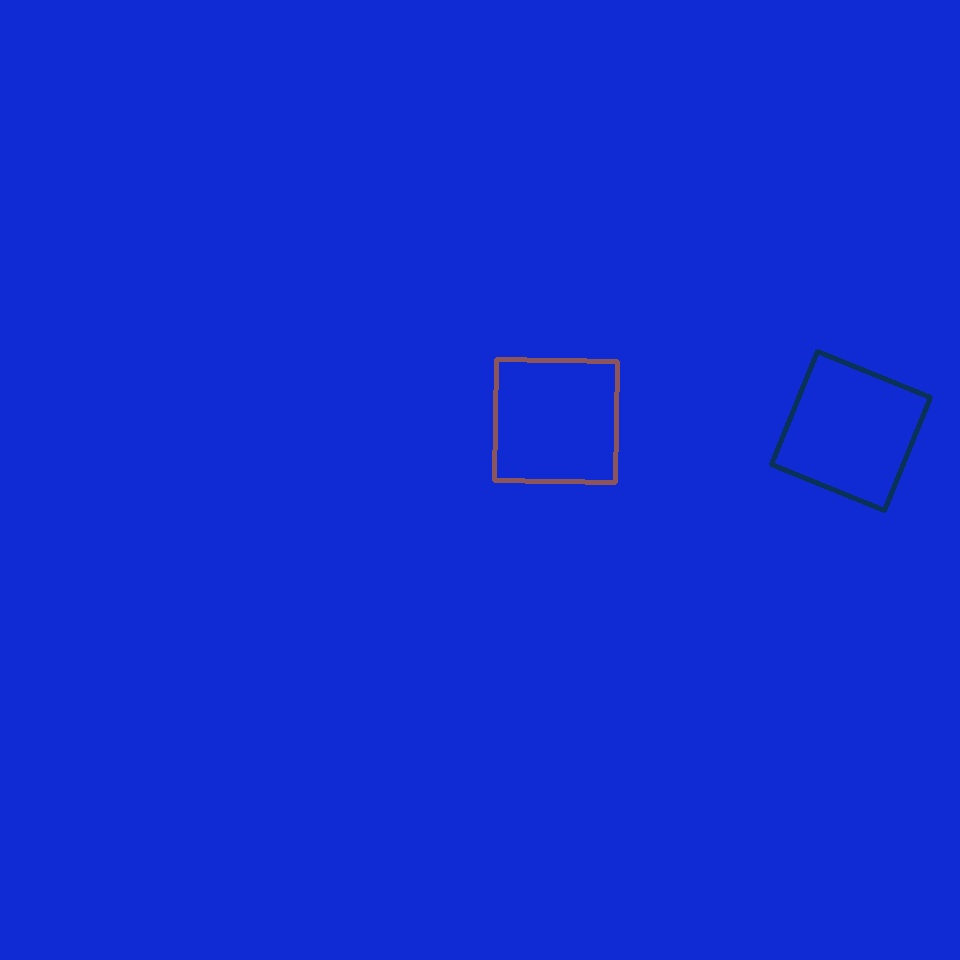square: (772, 352, 930, 510), (494, 360, 618, 482)
